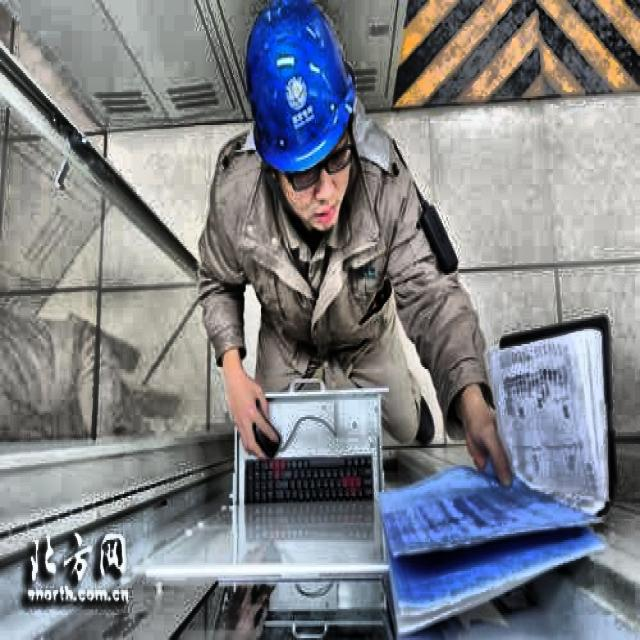helmet: (237, 0, 366, 248)
